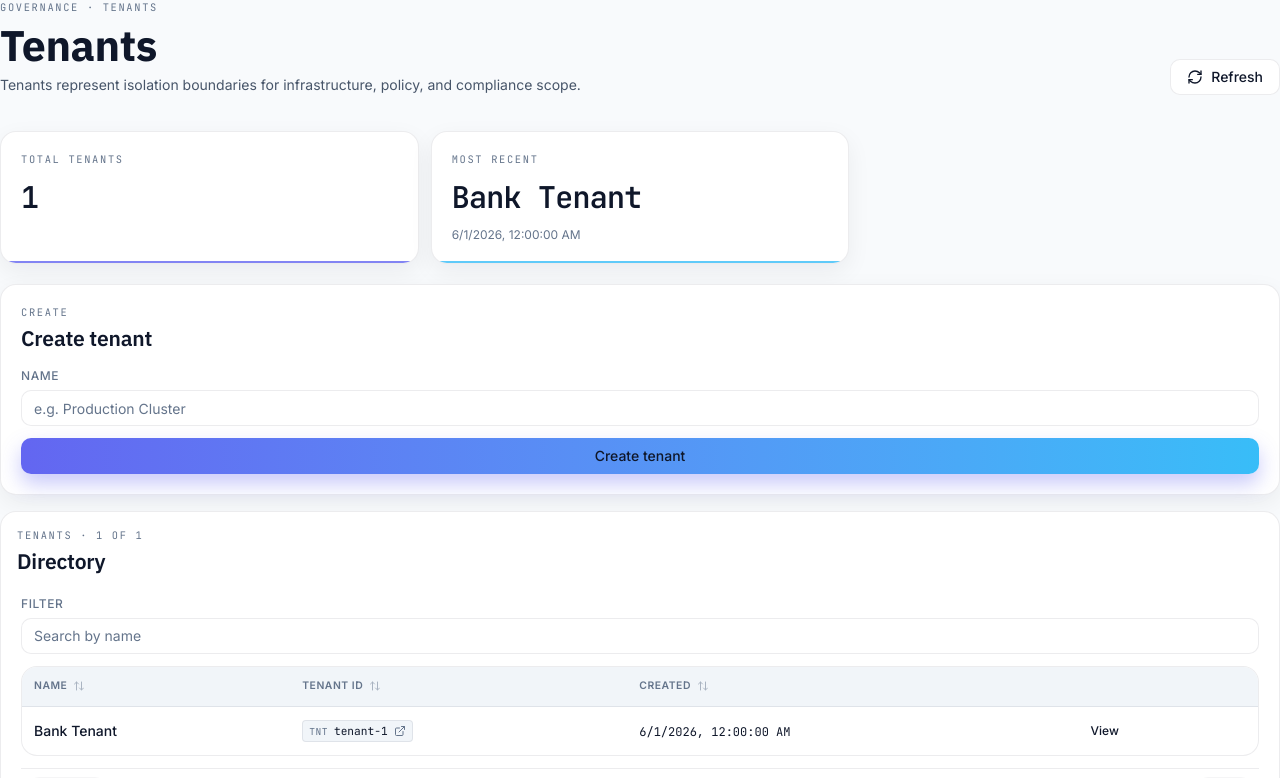
Tenants › keeps failed tenant deletes visible in the confirmation modal
Click the button "View".
click(1105, 731)  # box [1078,715,1131,747]
(page scrolled)
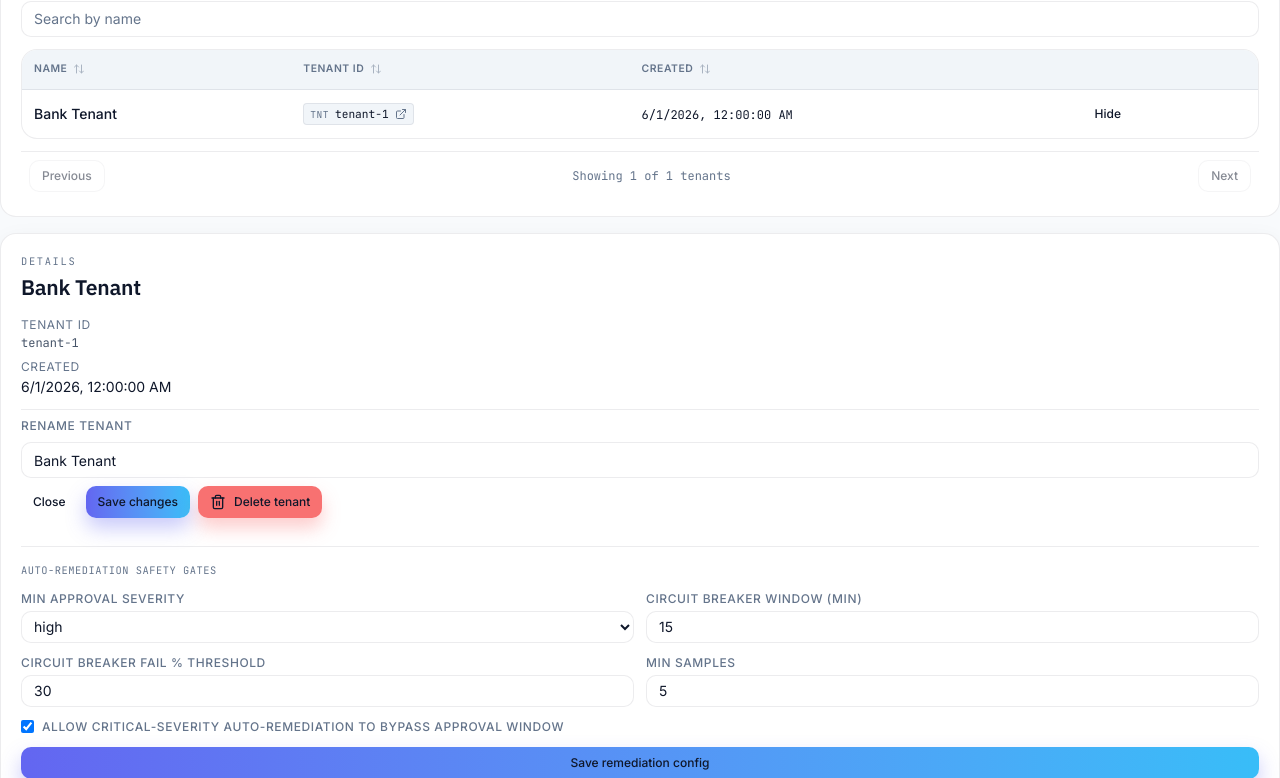
Click the button with aria-label "Delete tenant Bank Tenant".
click(260, 502)  # box [198,486,322,518]
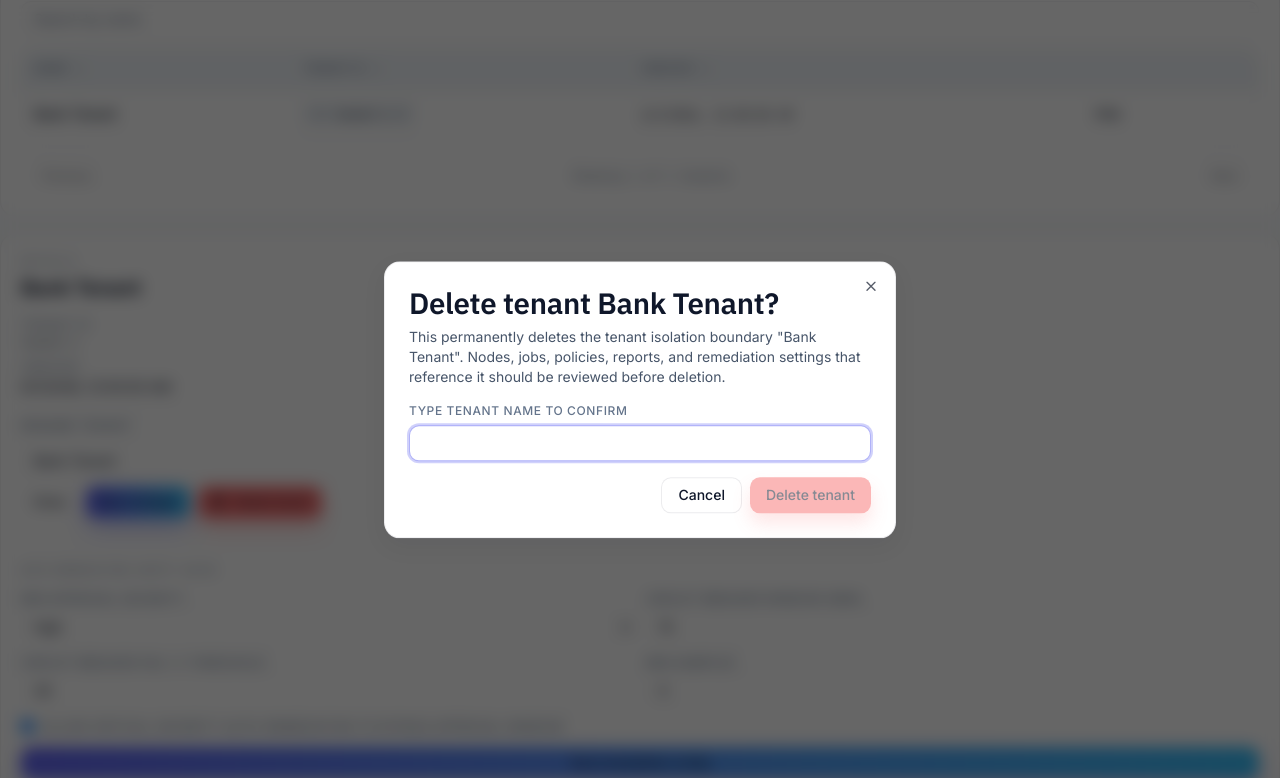
Type "Bank Tenant" into the field labelled "Type tenant name to confirm".
click(640, 444); type("Bank Tenant")  # box [409,426,871,462]
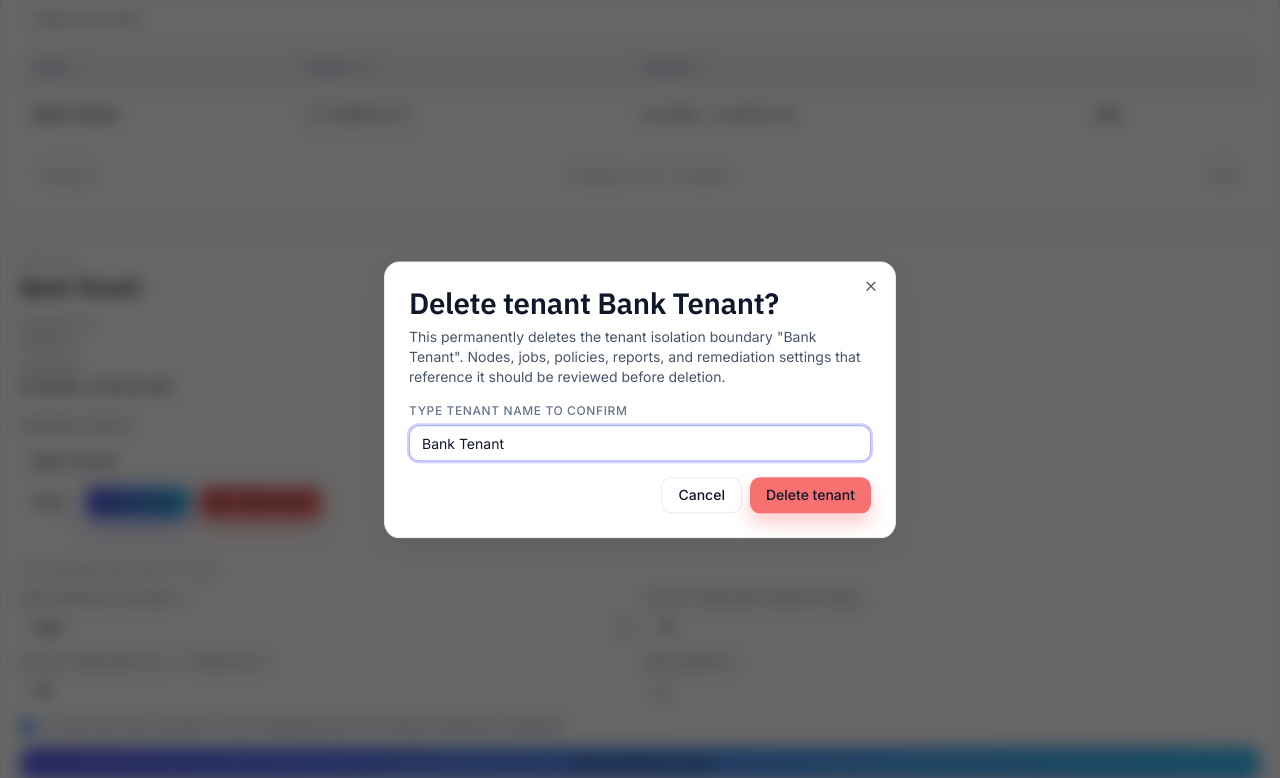
Click the button "Delete tenant".
click(810, 496)  # box [750,478,871,514]
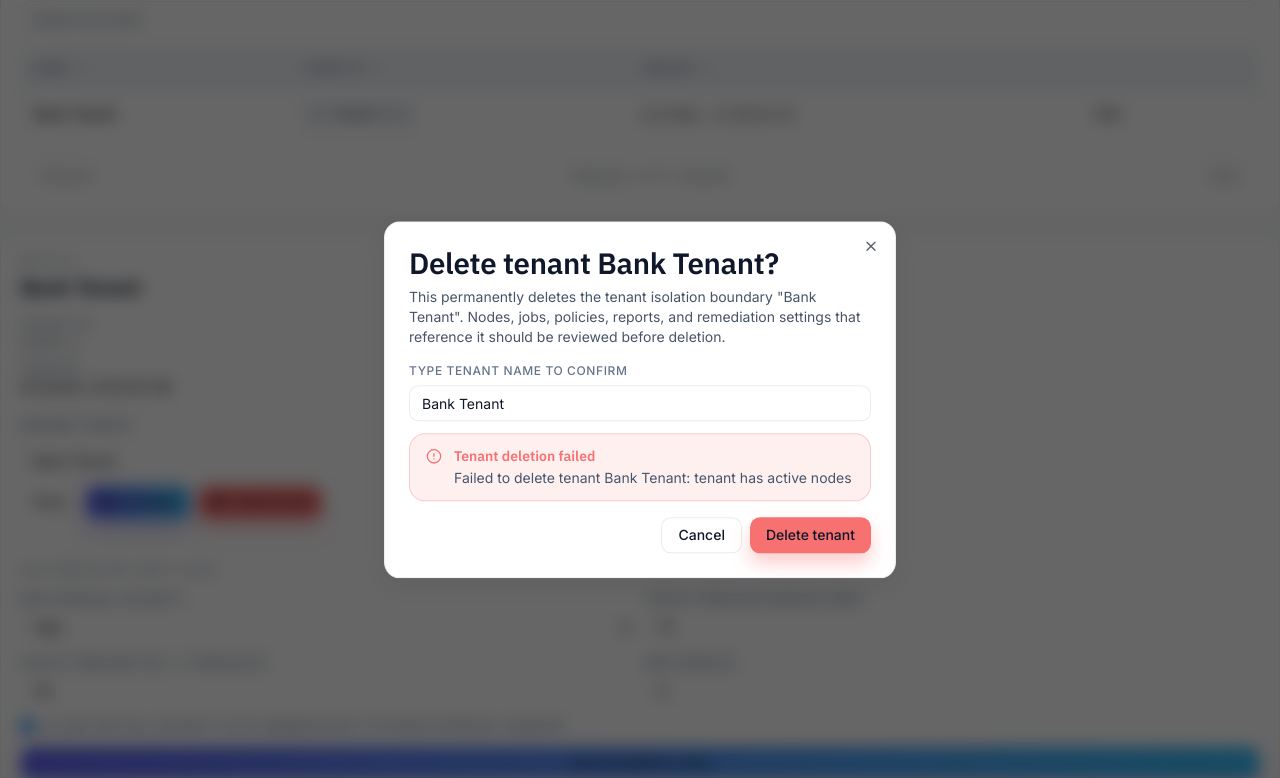
expect the dialog "Delete tenant Bank Tenant" is shown: met, box [384,221,896,579]
expect the text "Tenant deletion failed" is shown: met, box [454,448,595,466]
expect the message shows "Failed to delete tenant Bank Tenant: tenant has active nodes": met, box [454,470,852,487]
